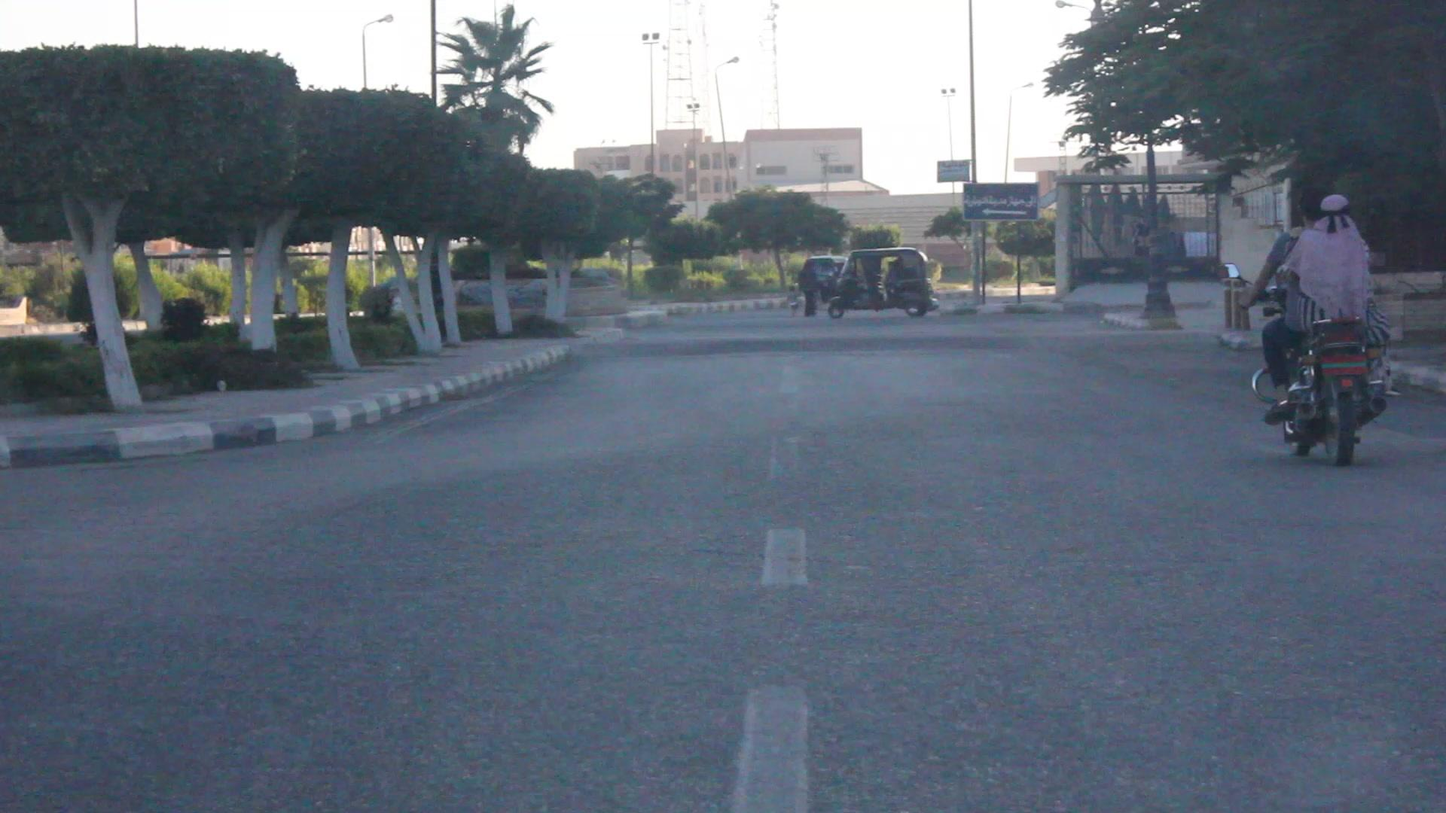Bump: (599, 335, 1090, 369)
